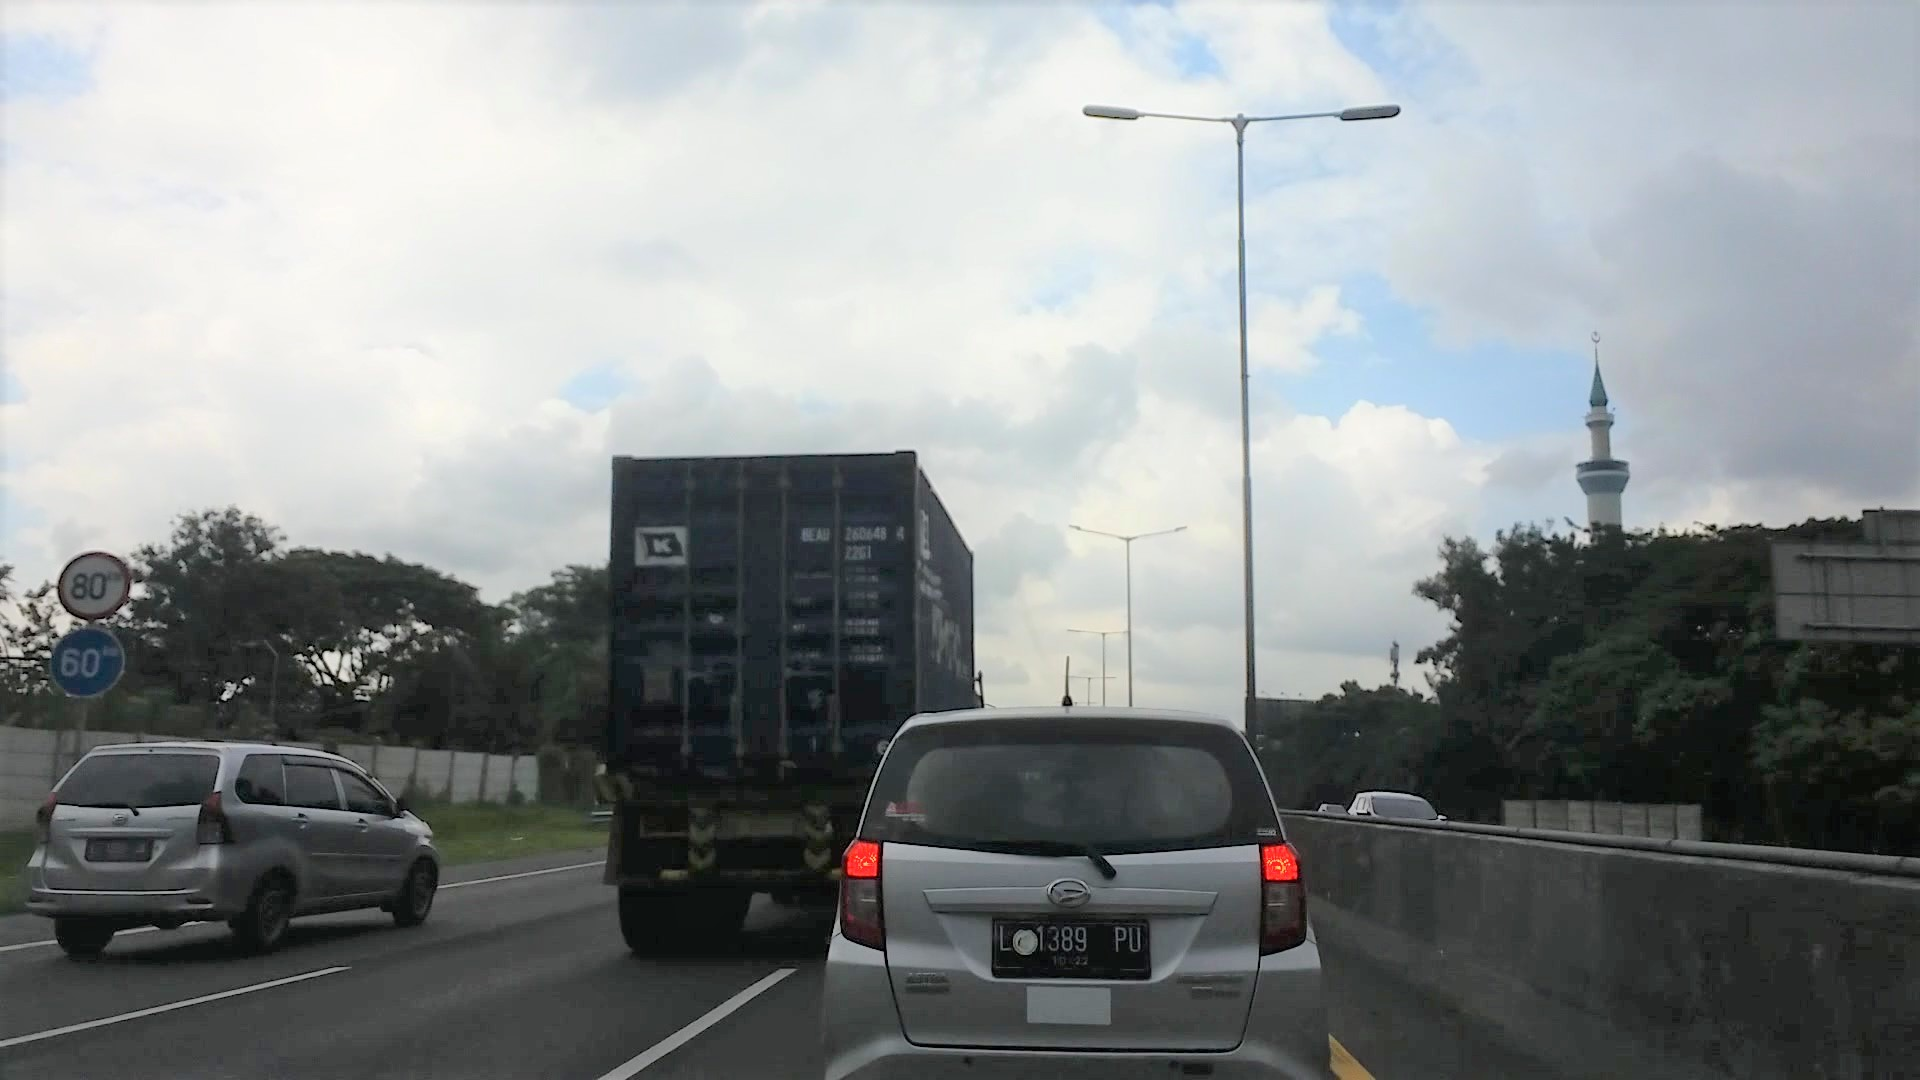plate_positive: (992, 916, 1153, 980)
